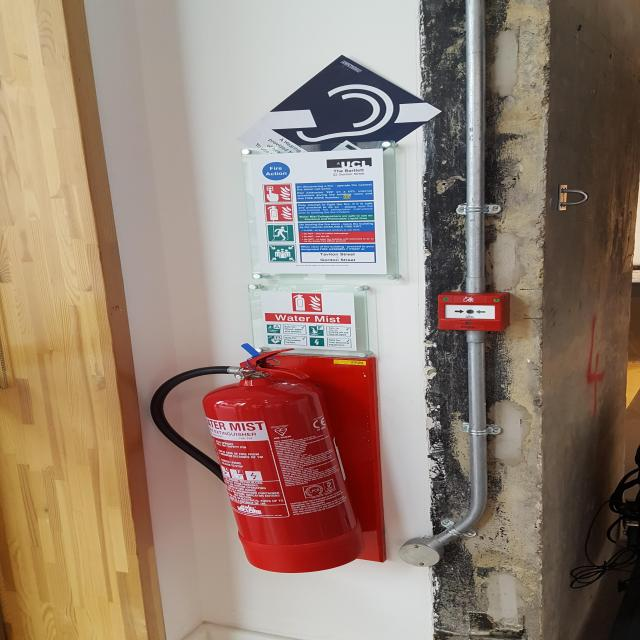fire_extinguisher: (144, 338, 370, 577)
